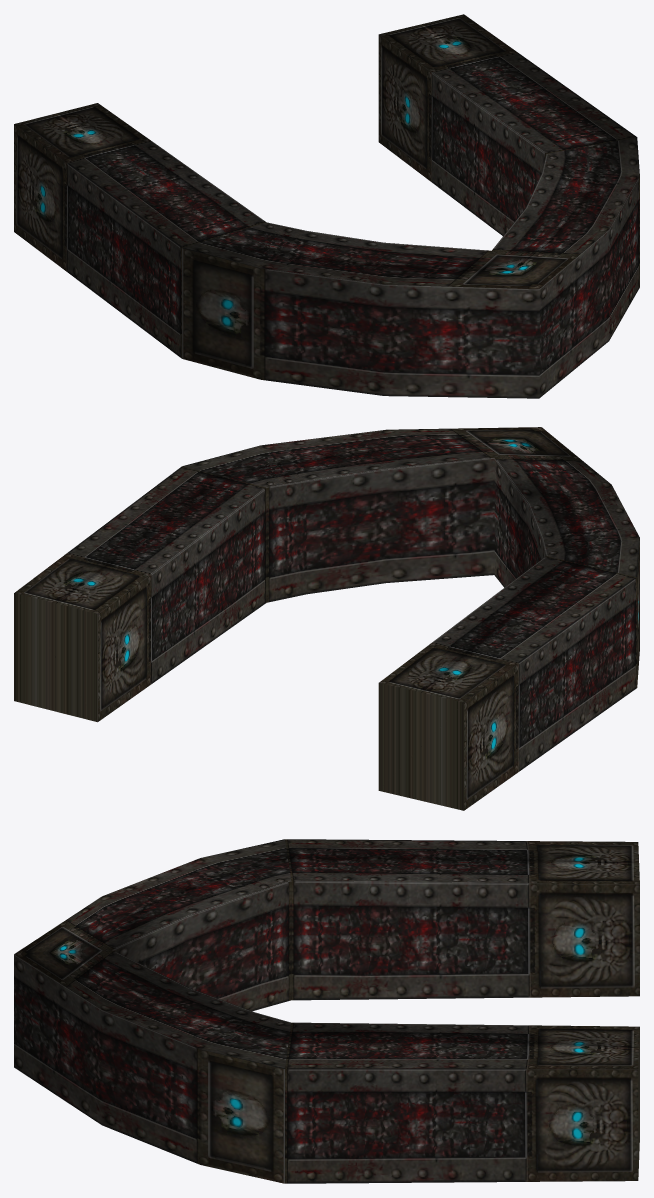
Rendered from gate_12.obj.
3 views of the same model, one above another, from view 1: azimuth 30°, elevation 25°; view 2: azimuth 150°, elevation 25°; view 3: azimuth 270°, elevation 25° (orthographic). The views are drawn at different scales.
Visible parts, largest first — view 1: (null); view 2: (null); view 3: (null).
Boxes of the visible parts, x1,y1,x2,y2 form: (null): [14, 14, 639, 398]; (null): [14, 427, 639, 810]; (null): [14, 839, 639, 1183].
Bounding box in the file's own units: 2.24 × 0.5513 × 2.58.
